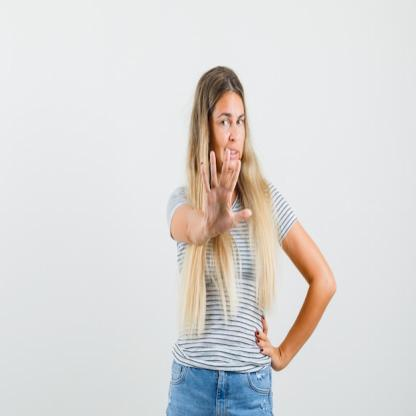stop: (198, 146, 254, 238)
